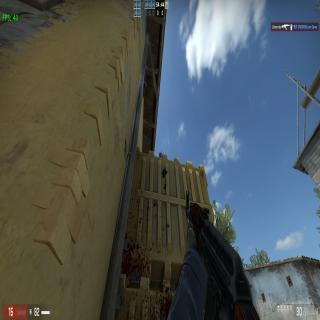CT-Head: (158, 150, 163, 159)
